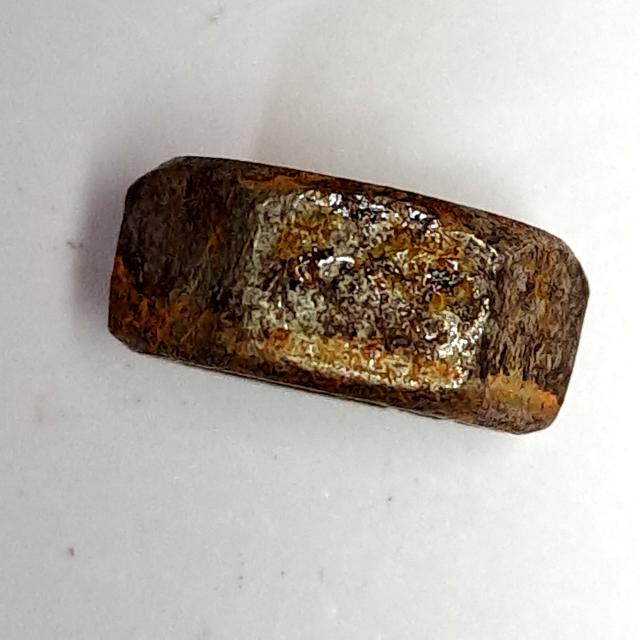Side_Rust: (94, 141, 603, 452)
